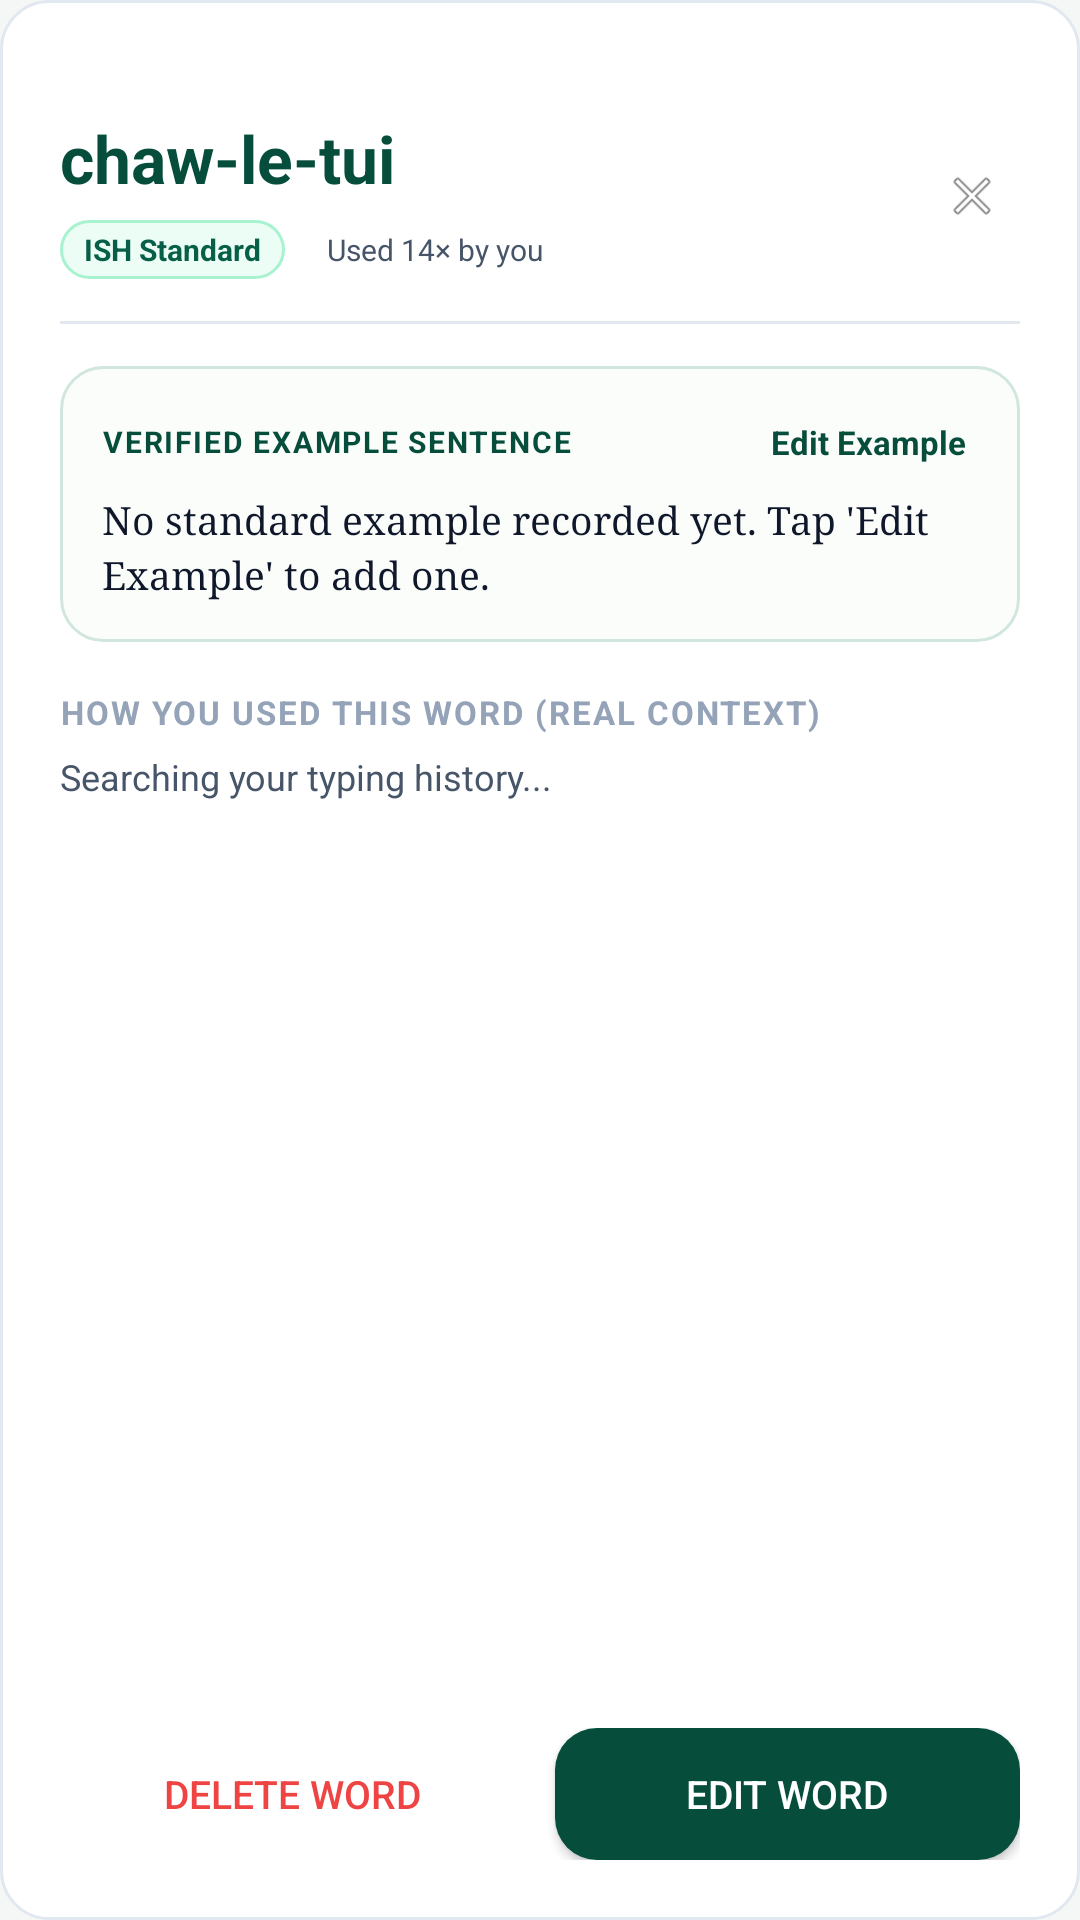

Where icons sit on this 1080x1920 app screen, as (x1, y1, x2, y2):
Close: (953, 177, 991, 215)
